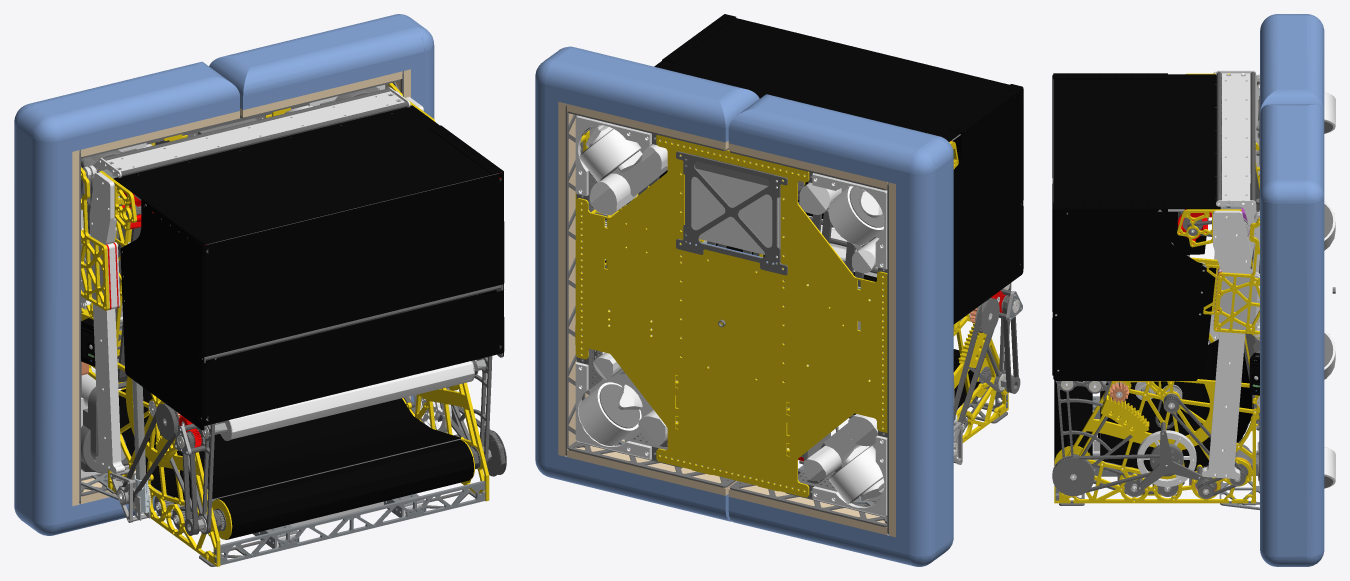
The model's file is TecdroidChampsNoNet.fbx.
3 renders of one model, left to right at view 1: azimuth 30°, elevation 25°; view 2: azimuth 150°, elevation 25°; view 3: azimuth 270°, elevation 25°, orthographic. The views are drawn at different scales.
Visible parts, largest first — view 1: 3354-2026-CS2-2000-PC-1.5mm-2, Bumper foam-01, 3354-2026-CS2-2000-PC-1.5mm-1, 3354-2026-CS2-2000-PC-1.5mm-3, 3354-2026CS-4000-PL_1.5M_PC-03, Bumper foam-02, Part 1.001, Part 1.005, 3354-2026-CS2-2000-Kicker-PC 3mm-2, 3354-2026CS-4000-PL_70_1/4_AL-07, Part 20, 3354-2026CS-4000-PL_70_1/4_AL-05 (+22 smaller); view 2: 3354-2026-Chasis-PL-1/8AL-1, Bumper foam-01, Bumper foam-02, 3354-2026-CS2-2000-PC-1.5mm-1, 3354-2026-CS2-2000-PC-1.5mm-3, Block MK5i.001, Block MK5i, Block MK5i.003, Robot Battery, Block MK5i.002, 3354-2026-Chasis-Bumper-3, 3354-2026-Chasis-PL-1/8AL-2 (+17 smaller); view 3: Bumper foam-02, 3354-2026-CS2-2000-PC-1.5mm-1.001, 3354-2026-CS2-2000-PC-1.5mm-1, 3354-2026CS-4000-PL_70_1/4_AL-01, 3354-2026-CS2-2000-PC-3mm-1, Bumper foam-01, 3354-2026CS-4000-PL_1.5M_PC-03, 3354-2026-CS2-2000-Kicker-PC 3mm-2, 3354-2026-CS2-2000-PC-1.5mm-2, 3354-2026-CS2-2000-AL7075-0.25-1, Part 1.001, 3354-2026-CS2-4000-Hood-AL7075 - 1/4-1.001 (+21 smaller).
Boxes of the visible parts, x1=… form: 3354-2026-CS2-2000-PC-1.5mm-2: x1=195, y1=172, x2=504, y2=425; Bumper foam-01: x1=14, y1=61, x2=239, y2=535; 3354-2026-CS2-2000-PC-1.5mm-1: x1=113, y1=105, x2=502, y2=244; 3354-2026-CS2-2000-PC-1.5mm-3: x1=120, y1=195, x2=215, y2=430; 3354-2026CS-4000-PL_1.5M_PC-03: x1=118, y1=387, x2=460, y2=501; Bumper foam-02: x1=209, y1=14, x2=434, y2=402; Part 1.001: x1=216, y1=440, x2=473, y2=539; Part 1.005: x1=229, y1=361, x2=474, y2=439; 3354-2026-CS2-2000-Kicker-PC 3mm-2: x1=103, y1=91, x2=404, y2=172; 3354-2026CS-4000-PL_70_1/4_AL-07: x1=88, y1=362, x2=220, y2=566; Part 20: x1=89, y1=173, x2=117, y2=473; 3354-2026CS-4000-PL_70_1/4_AL-05: x1=214, y1=480, x2=485, y2=565; 3354-2026-Chasis-PL-1/8AL-1: x1=575, y1=135, x2=887, y2=497; Bumper foam-01: x1=728, y1=94, x2=953, y2=566; Bumper foam-02: x1=535, y1=46, x2=759, y2=521; 3354-2026-CS2-2000-PC-1.5mm-1: x1=654, y1=18, x2=1011, y2=141; 3354-2026-CS2-2000-PC-1.5mm-3: x1=949, y1=84, x2=1023, y2=324; Block MK5i.001: x1=575, y1=115, x2=667, y2=215; Block MK5i: x1=575, y1=352, x2=677, y2=459; Block MK5i.003: x1=803, y1=414, x2=887, y2=517; Robot Battery: x1=691, y1=154, x2=784, y2=254; Block MK5i.002: x1=799, y1=173, x2=887, y2=273; 3354-2026-Chasis-Bumper-3: x1=558, y1=102, x2=589, y2=456; 3354-2026-Chasis-PL-1/8AL-2: x1=676, y1=151, x2=787, y2=275; Bumper foam-02: x1=1260, y1=104, x2=1324, y2=566; 3354-2026-CS2-2000-PC-1.5mm-1.001: x1=1053, y1=202, x2=1206, y2=380; 3354-2026-CS2-2000-PC-1.5mm-1: x1=1054, y1=74, x2=1220, y2=209; 3354-2026CS-4000-PL_70_1/4_AL-01: x1=1054, y1=379, x2=1259, y2=503; 3354-2026-CS2-2000-PC-3mm-1: x1=1201, y1=212, x2=1251, y2=478; Bumper foam-01: x1=1260, y1=14, x2=1324, y2=112; 3354-2026CS-4000-PL_1.5M_PC-03: x1=1100, y1=339, x2=1252, y2=471; 3354-2026-CS2-2000-Kicker-PC 3mm-2: x1=1222, y1=73, x2=1250, y2=204; 3354-2026-CS2-2000-PC-1.5mm-2: x1=1052, y1=75, x2=1066, y2=376; 3354-2026-CS2-2000-AL7075-0.25-1: x1=1213, y1=218, x2=1259, y2=334; Part 1.001: x1=1054, y1=380, x2=1092, y2=465; 3354-2026-CS2-4000-Hood-AL7075 - 1/4-1.001: x1=1056, y1=369, x2=1132, y2=467.
Size of the model in its own units: 83.88 by 83.88 by 55.92.
